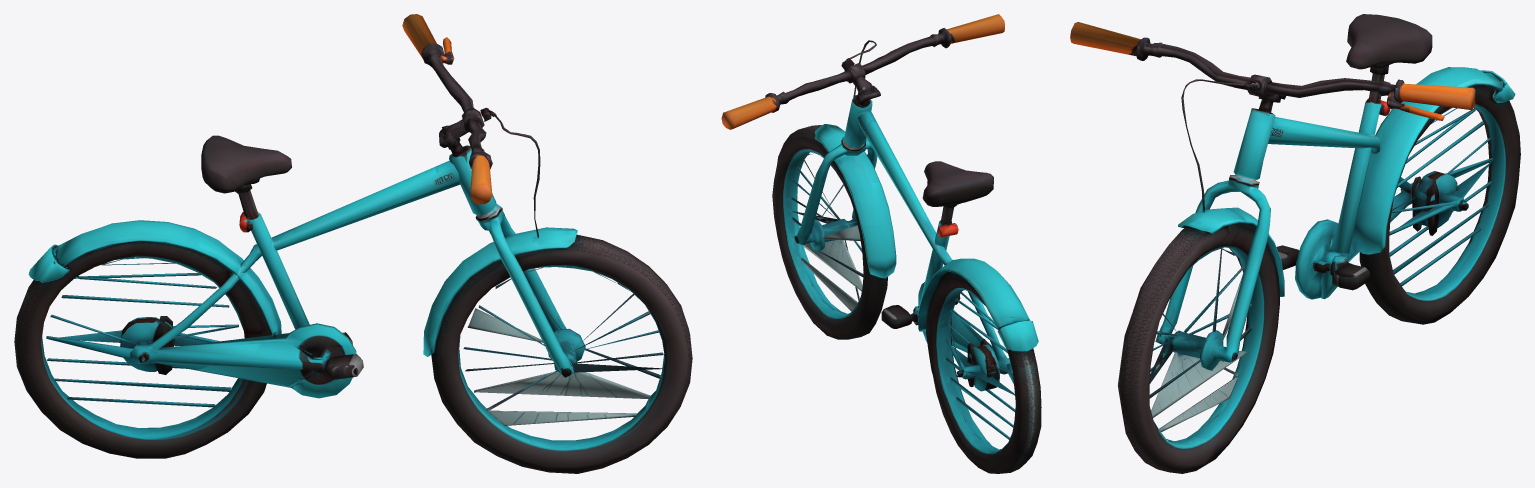
Rendered from prop_bike.glb.
The picture shows the model from 3 angles, left to right: view 1: azimuth 30°, elevation 25°; view 2: azimuth 150°, elevation 25°; view 3: azimuth 270°, elevation 25°; orthographic projection. The views are drawn at different scales.
Parts seen in each view (by area): view 1: tripo_node_d9306be0-d889-4400-af15-6c564eec9a73; view 2: tripo_node_d9306be0-d889-4400-af15-6c564eec9a73; view 3: tripo_node_d9306be0-d889-4400-af15-6c564eec9a73.
Boxes of the visible parts, <box> form: tripo_node_d9306be0-d889-4400-af15-6c564eec9a73: <box>14,14,692,473</box>; tripo_node_d9306be0-d889-4400-af15-6c564eec9a73: <box>721,14,1041,473</box>; tripo_node_d9306be0-d889-4400-af15-6c564eec9a73: <box>1070,14,1520,473</box>.
Size of the model in its own units: 0.998 by 0.7051 by 0.7754.
Materials: 1 (1 with a texture image).
